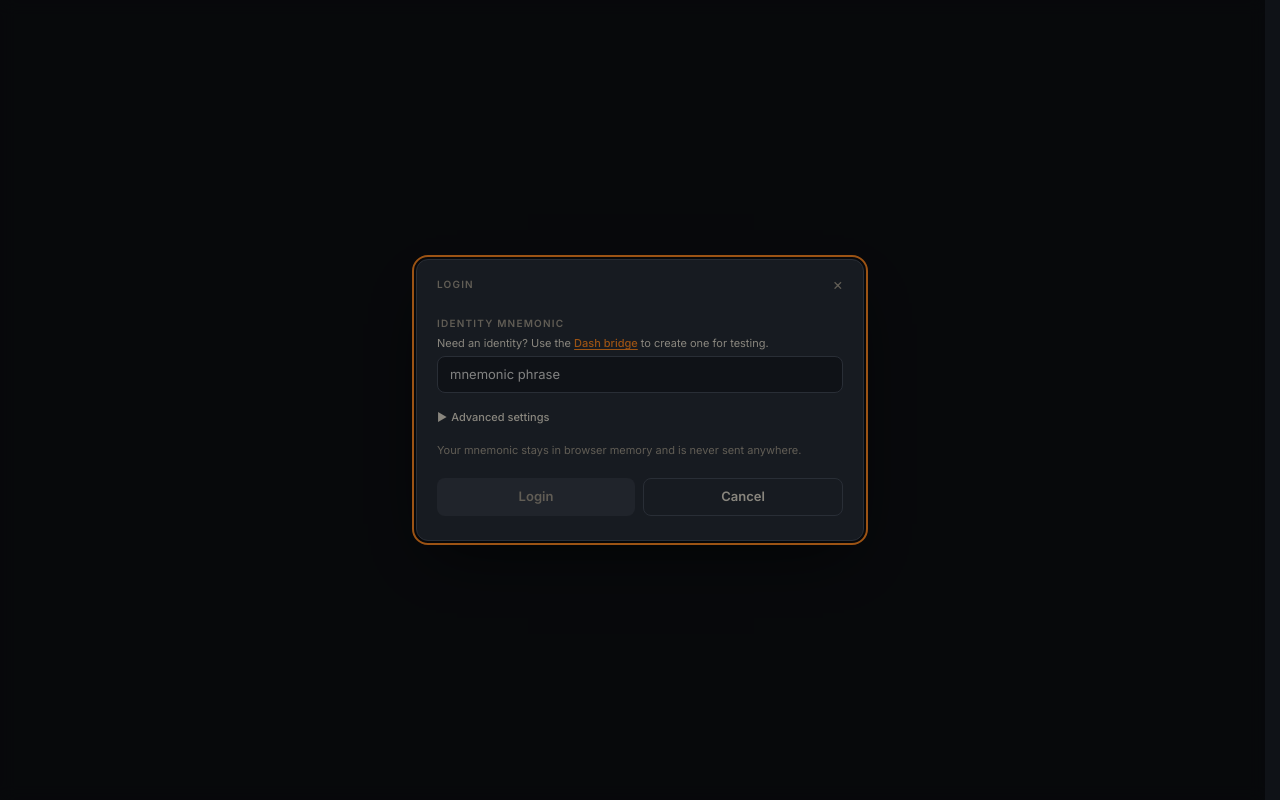
Test: LoginModal › shows the login error and stays open when login fails
Type "bad mnemonic" into the password field with placeholder "mnemonic phrase" at (640, 375), box 437,356 -> 843,393
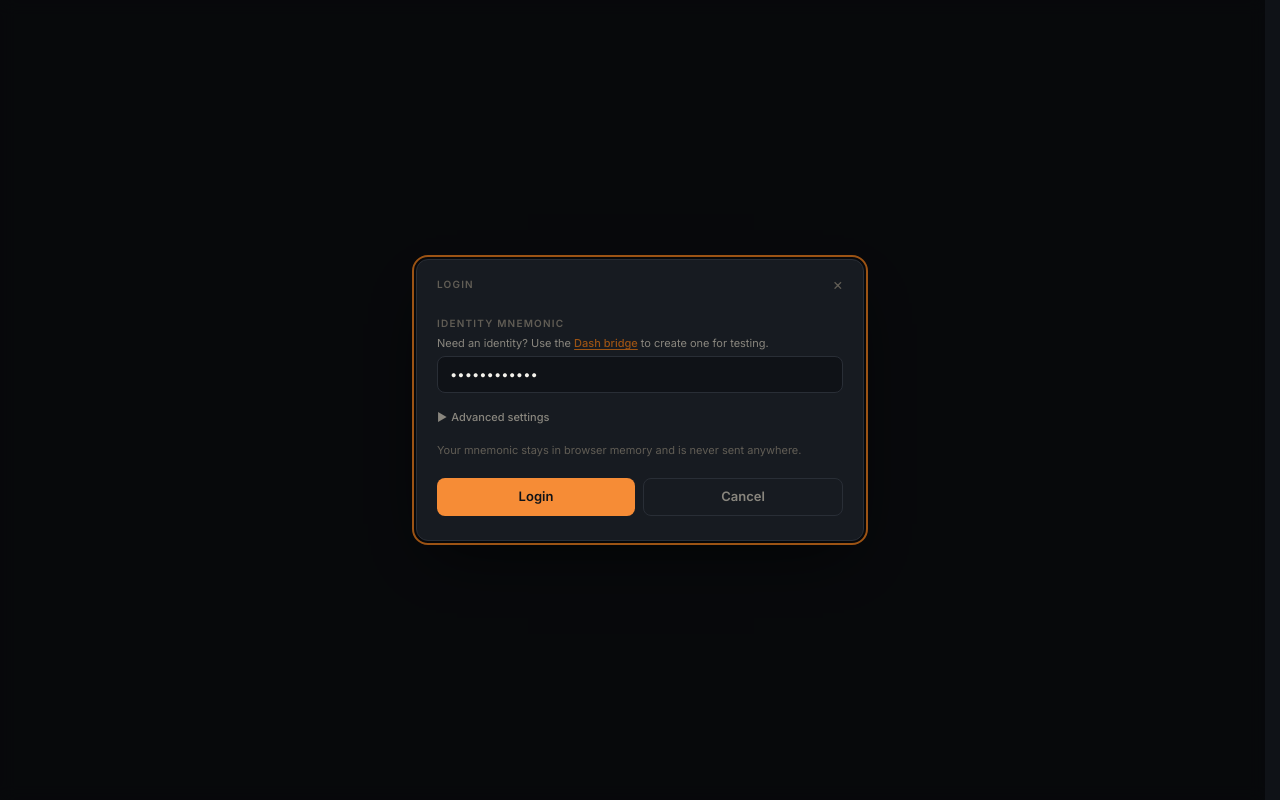
Click the button "Login" at (536, 497), box 437,478 -> 635,516
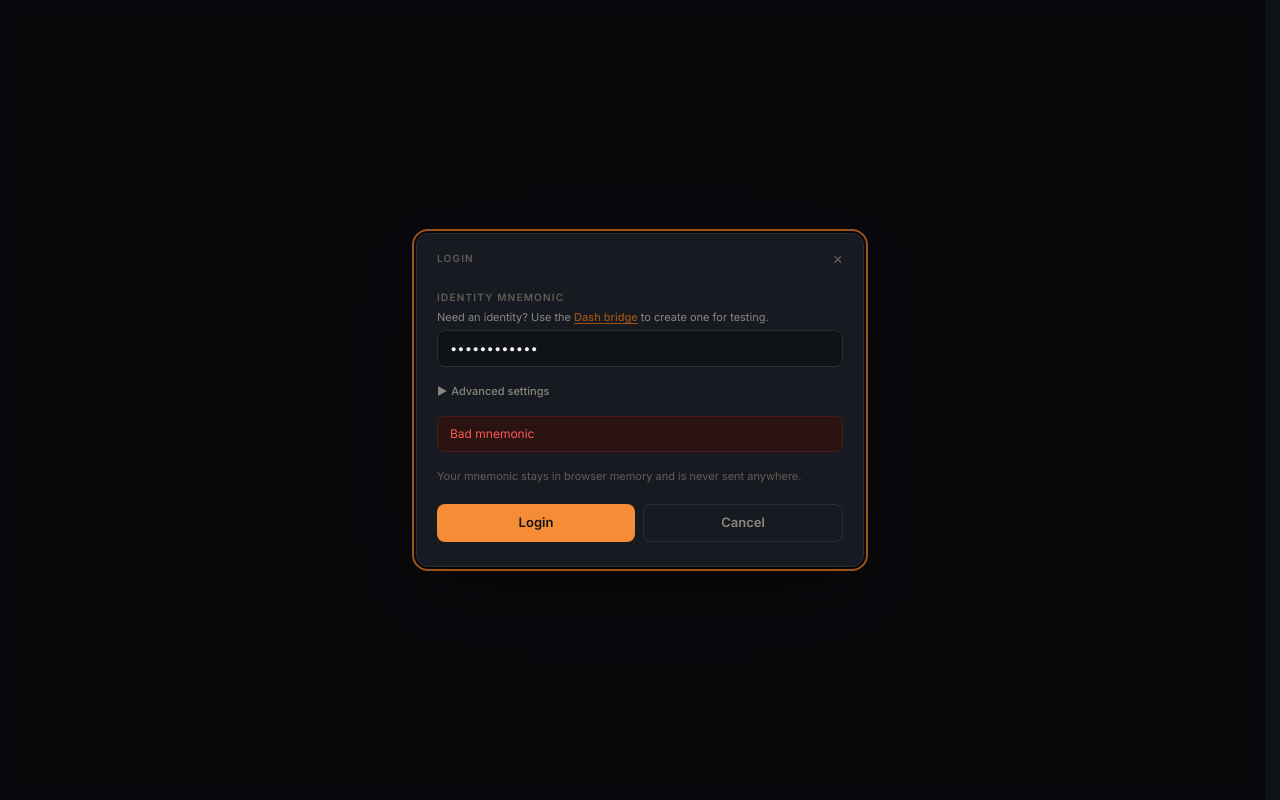
Expected: the text "Bad mnemonic" is shown, 437,416 -> 843,452
